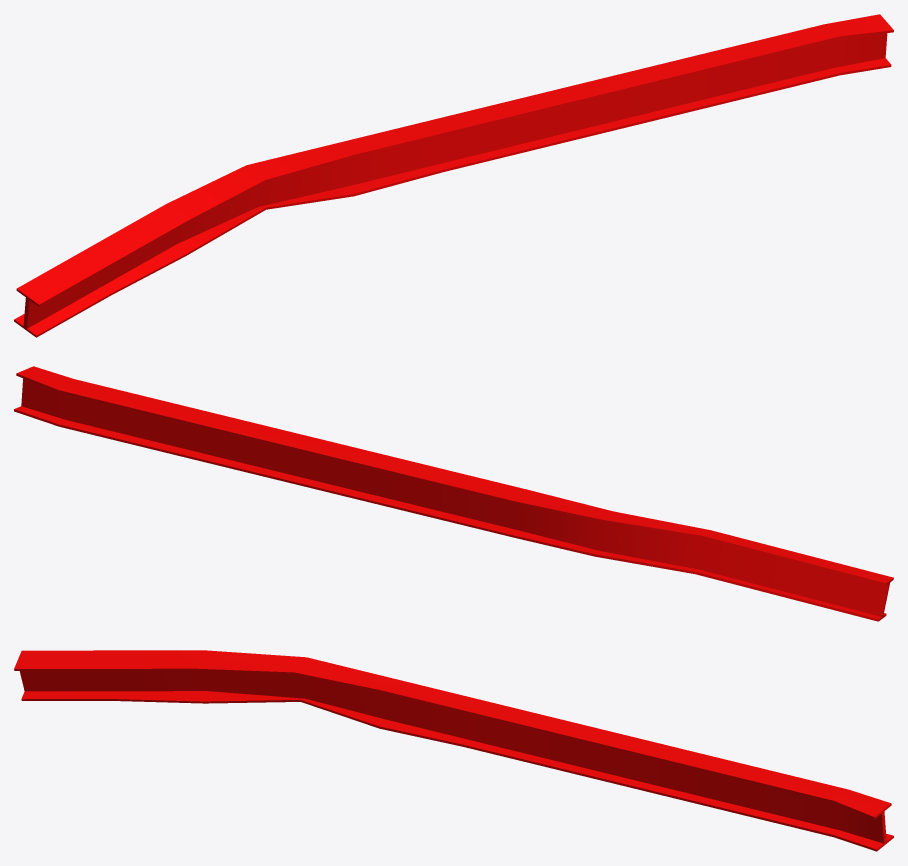
The model's file is Structure01_Beam03c.fbx.
3 views of the same model, one above another, from view 1: azimuth 30°, elevation 25°; view 2: azimuth 150°, elevation 25°; view 3: azimuth 330°, elevation 25° (orthographic). The views are drawn at different scales.
Visible parts, largest first — view 1: Structure01_Beam03c_LOD0; view 2: Structure01_Beam03c_LOD0; view 3: Structure01_Beam03c_LOD0.
Boxes of the visible parts, x1,y1,x2,y2 form: Structure01_Beam03c_LOD0: [14, 14, 893, 337]; Structure01_Beam03c_LOD0: [14, 366, 893, 621]; Structure01_Beam03c_LOD0: [14, 650, 893, 851].
Size of what is drawn, in the model's own units: 601 by 48.06 by 64.79.
